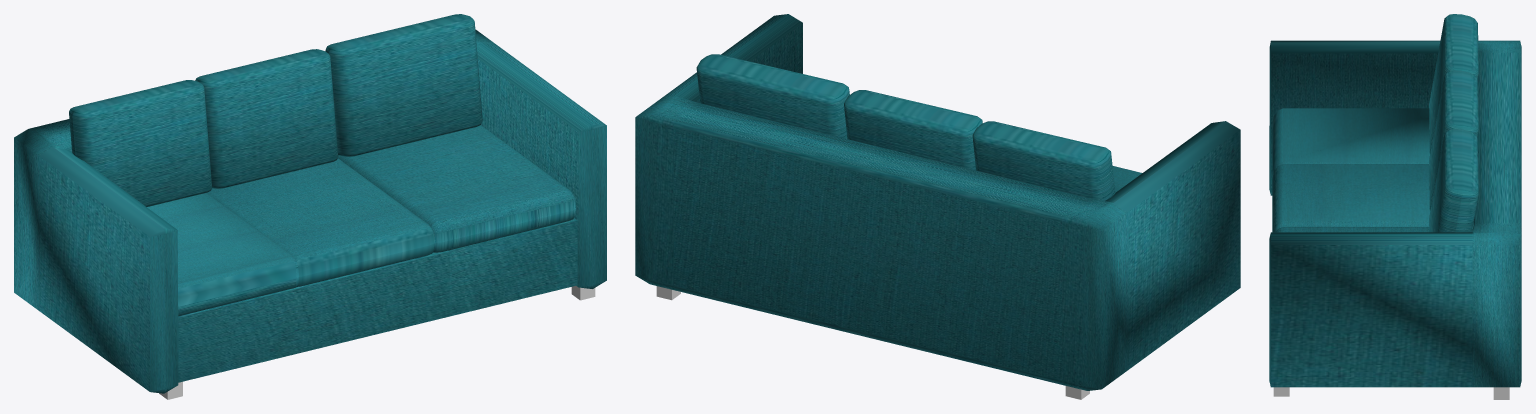
Rendered from Couchr.fbx.
3 views of the same model, side by side, from view 1: azimuth 30°, elevation 25°; view 2: azimuth 150°, elevation 25°; view 3: azimuth 270°, elevation 25° (orthographic). The views are drawn at different scales.
Parts seen in each view (by area): view 1: Cube, Cube.001, Cube.005, Cube.002, Cube.003, Cube.006, Cube.007, Cube.004; view 2: Cube, Cube.005, Cube.007, Cube.006; view 3: Cube, Cube.003, Cube.004, Cube.005, Cube.006, Cube.007, Cube.002.
Boxes of the visible parts, x1,y1,x2,y2 form: Cube: (14, 29, 606, 393); Cube.001: (178, 218, 577, 382); Cube.005: (325, 14, 482, 156); Cube.002: (338, 125, 575, 252); Cube.003: (207, 158, 434, 286); Cube.006: (195, 49, 338, 188); Cube.007: (69, 80, 211, 206); Cube.004: (147, 193, 298, 316); Cube: (635, 14, 1240, 390); Cube.005: (696, 54, 849, 138); Cube.007: (972, 121, 1115, 200); Cube.006: (844, 90, 982, 170); Cube: (1269, 40, 1521, 387); Cube.003: (1272, 164, 1473, 232); Cube.004: (1272, 108, 1429, 178); Cube.005: (1429, 129, 1478, 232); Cube.006: (1429, 70, 1478, 210); Cube.007: (1429, 14, 1478, 153); Cube.002: (1276, 227, 1429, 232).
Size of the model in its own units: 11.52 by 5.35 by 6.
